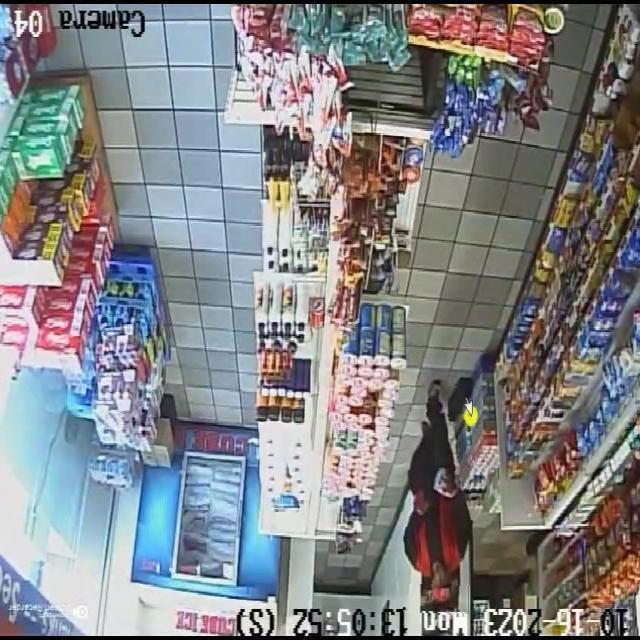Normal: (403, 386, 472, 613)
